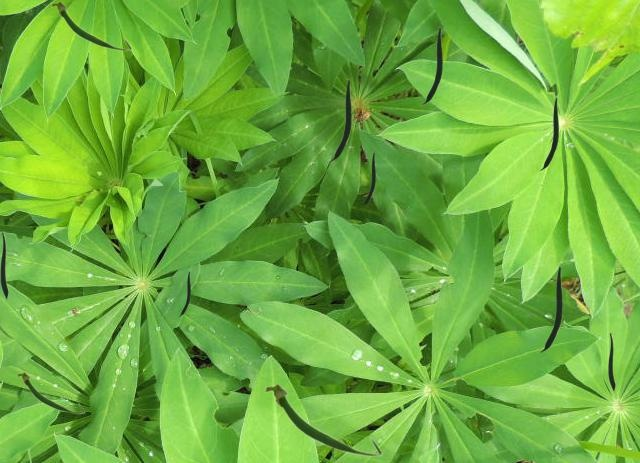french_bean: (263, 383, 382, 456), (50, 0, 131, 50), (16, 371, 84, 413), (540, 266, 561, 351), (330, 79, 350, 160), (422, 27, 441, 103), (540, 97, 557, 169), (362, 152, 374, 205), (0, 231, 7, 298), (179, 271, 189, 315), (608, 332, 614, 390)
